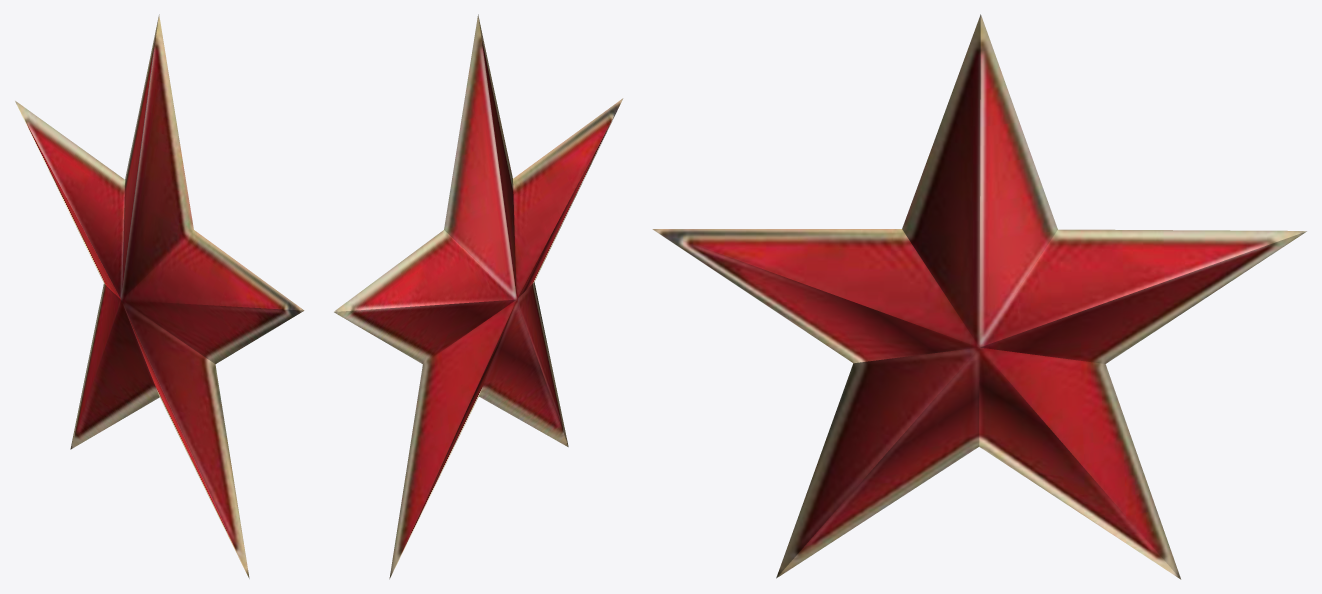
The model's file is red_star.DAE.
The picture shows the model from 3 angles, left to right: view 1: azimuth 30°, elevation 25°; view 2: azimuth 150°, elevation 25°; view 3: azimuth 270°, elevation 25°; orthographic projection. The views are drawn at different scales.
Visible parts, largest first — view 1: Star01_PIVOT; view 2: Star01_PIVOT; view 3: Star01_PIVOT.
Boxes of the visible parts, <box> form: Star01_PIVOT: <box>14,14,304,579</box>; Star01_PIVOT: <box>334,14,623,579</box>; Star01_PIVOT: <box>652,14,1307,579</box>.
Bounding box in the file's own units: 27.24 × 179 × 171.
Materials: 1 (1 with a texture image).
